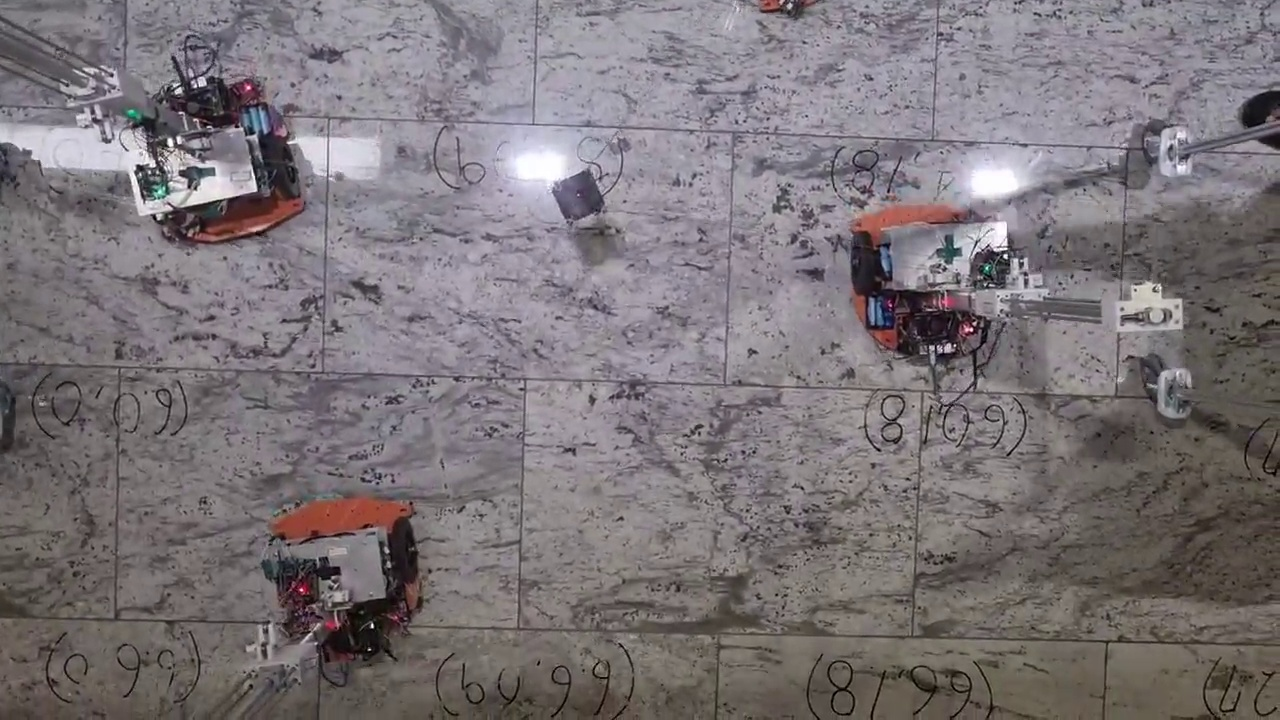e0: (551, 167, 604, 223)
r1: (851, 232, 1013, 290)
r2: (798, 1, 809, 13)
r3: (142, 135, 300, 226)
r4: (269, 517, 420, 602)
y_+_axis_vector: (525, 379, 923, 391)
y_-_axis_vector: (119, 367, 526, 379)
